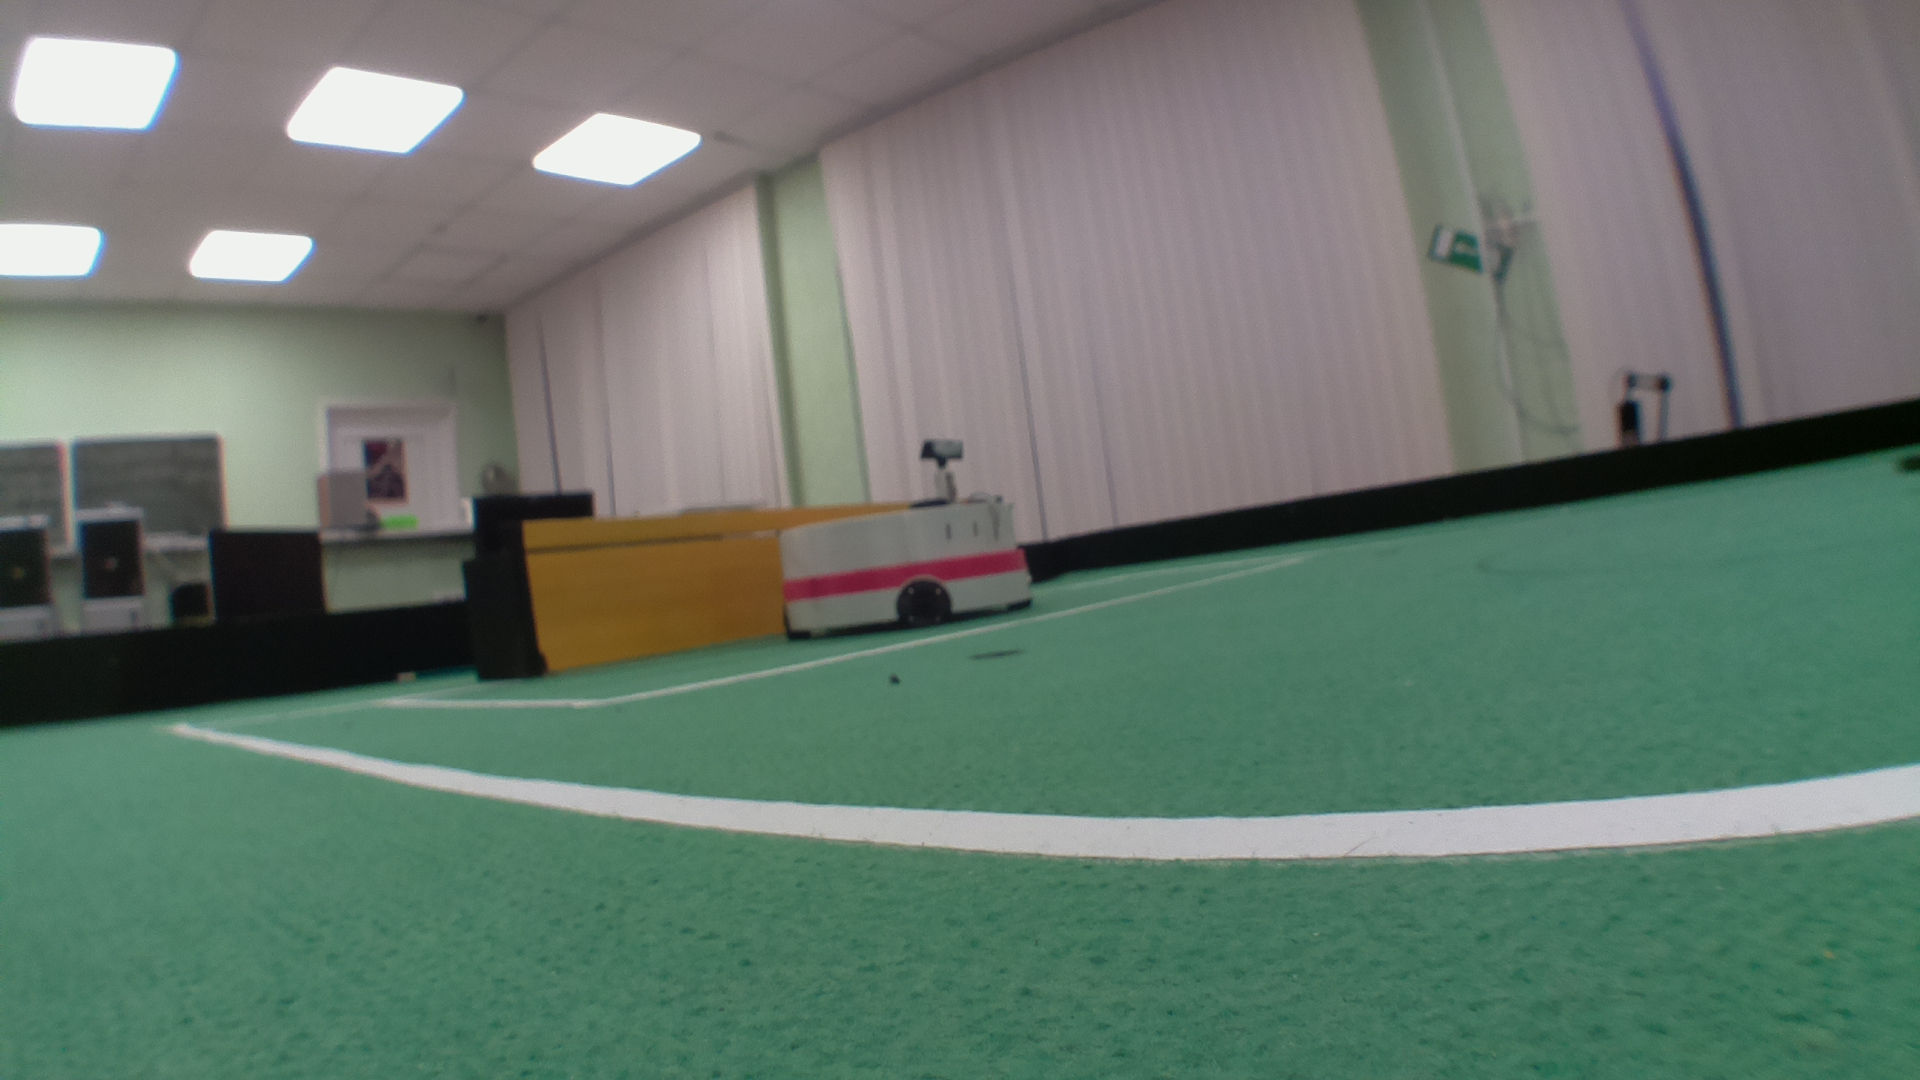YellowGoal: (522, 500, 855, 662)
